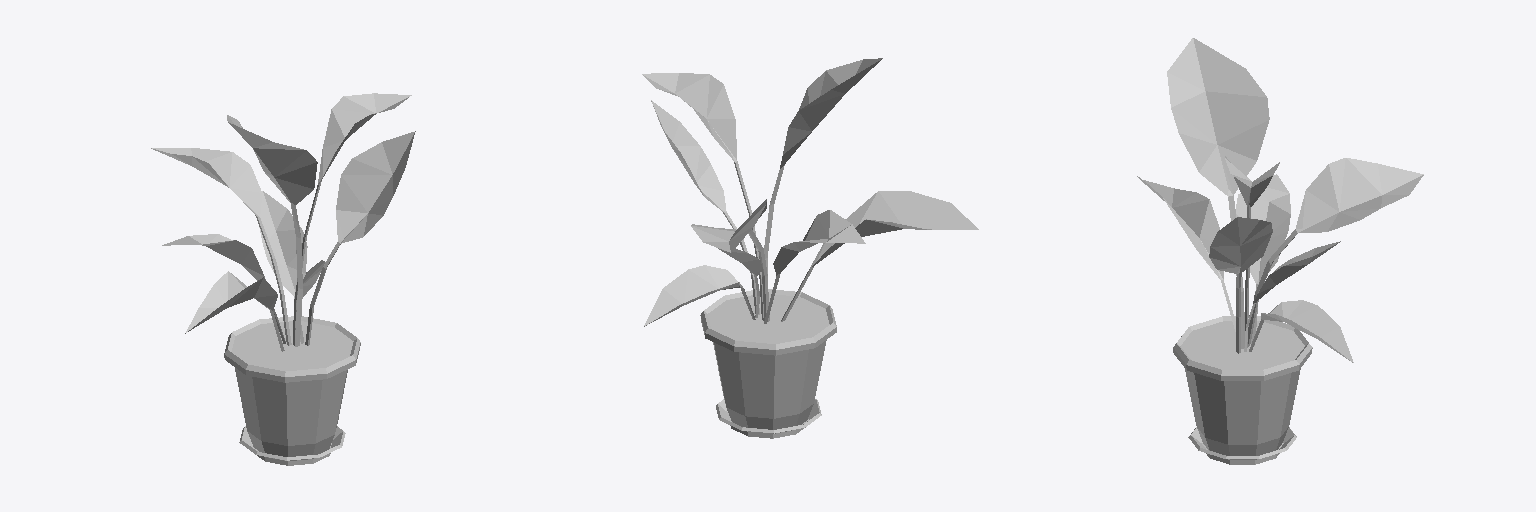
File: HousePlant02.obj
3 views of the same model, side by side, from view 1: azimuth 30°, elevation 25°; view 2: azimuth 150°, elevation 25°; view 3: azimuth 270°, elevation 25° (orthographic).
Parts seen in each view (by area): view 1: HousePlant02_LOD0_Plant2.001; view 2: HousePlant02_LOD0_Plant2.001; view 3: HousePlant02_LOD0_Plant2.001.
Part boxes in pixels (x1,y1,x2,y2): HousePlant02_LOD0_Plant2.001: (151, 93, 415, 465); HousePlant02_LOD0_Plant2.001: (642, 58, 978, 438); HousePlant02_LOD0_Plant2.001: (1137, 38, 1423, 464).
Size of the model in its own units: 0.4189 by 0.5192 by 0.3698.